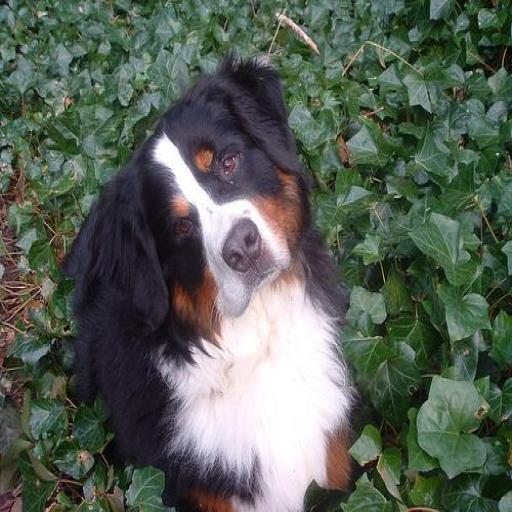dog_face: (85, 62, 301, 342)
